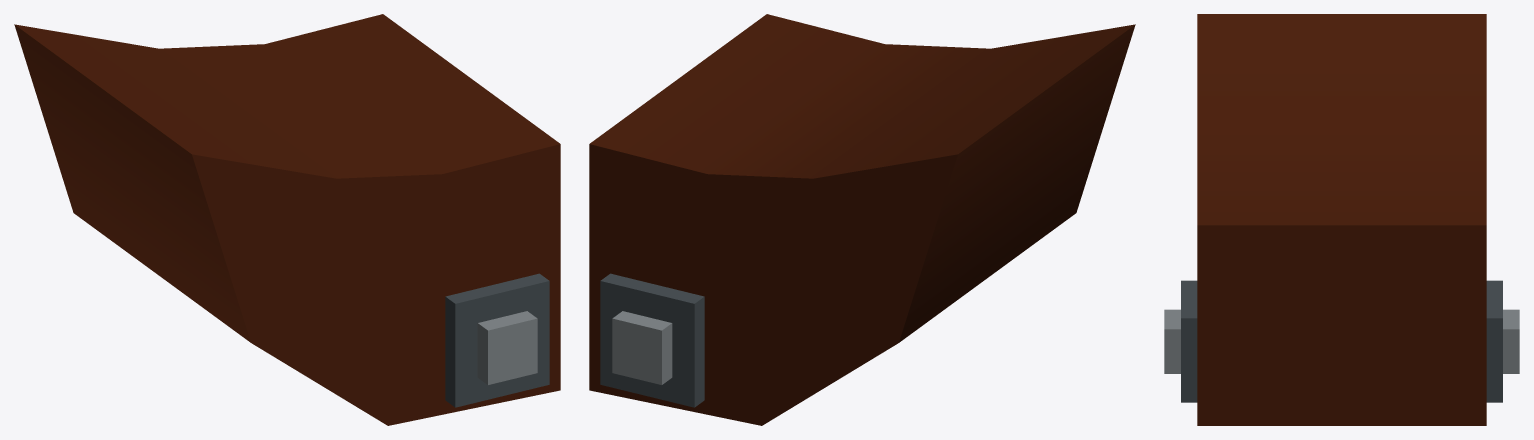
File: Shoulder 10.FBX
3 views of the same model, side by side, from view 1: azimuth 30°, elevation 25°; view 2: azimuth 150°, elevation 25°; view 3: azimuth 270°, elevation 25° (orthographic). The views are drawn at different scales.
Visible parts, largest first — view 1: Shoulder 10; view 2: Shoulder 10; view 3: Shoulder 10.
Part boxes in pixels (x1,y1,x2,y2): Shoulder 10: (14,14,560,425); Shoulder 10: (589,14,1135,425); Shoulder 10: (1164,14,1519,425).
Size of the model in its own units: 24.4 by 20.61 by 25.01.
1 material, 1 textured.
